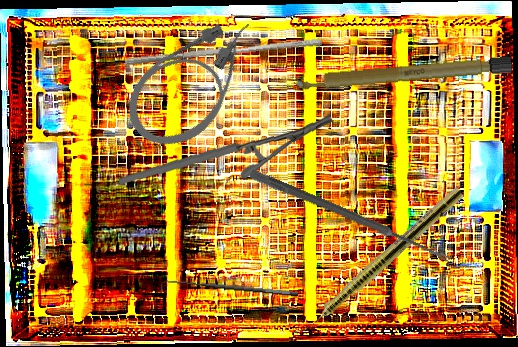Cannula: (111, 1, 283, 164)
Handpiece: (289, 184, 466, 345)
Hook Surgical: (160, 275, 299, 308)
Needle Holder: (119, 103, 333, 195)
Pusher: (124, 31, 323, 74)
Scalpel Handle: (293, 55, 513, 92)
Surgical Spoon: (248, 169, 453, 264)
